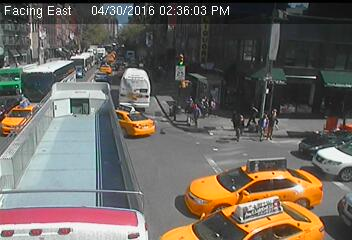neg: (109, 100, 151, 156), (250, 157, 281, 199), (159, 185, 189, 224), (314, 58, 342, 95), (169, 47, 196, 84), (19, 121, 46, 157), (87, 44, 113, 78), (13, 25, 35, 54), (247, 62, 268, 90), (322, 112, 342, 138)
pos: (226, 112, 247, 139), (269, 106, 285, 127), (257, 115, 272, 134), (190, 104, 205, 123), (209, 95, 221, 111)
